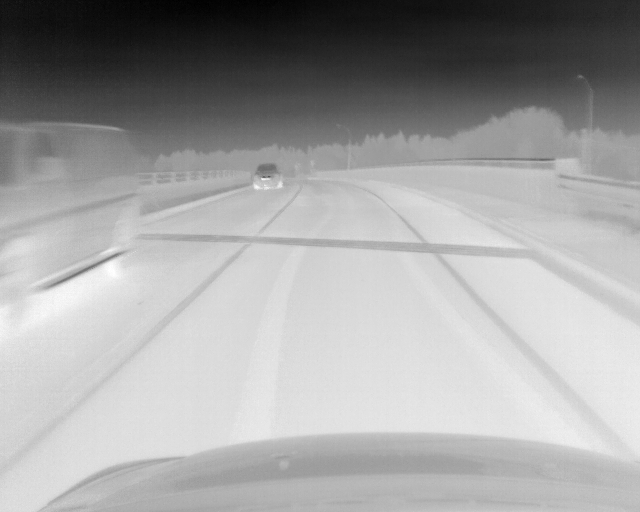car: (1, 121, 146, 324), (253, 163, 283, 191)
